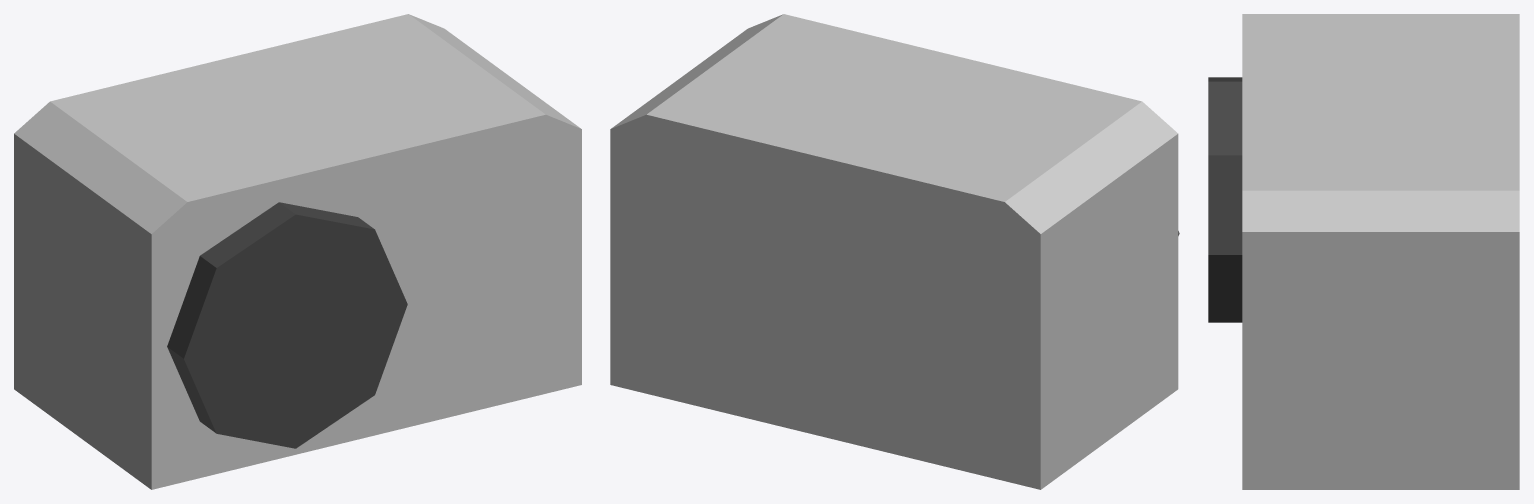
File: AC_Unit.glb
3 renders of one model, left to right at view 1: azimuth 30°, elevation 25°; view 2: azimuth 150°, elevation 25°; view 3: azimuth 270°, elevation 25°, orthographic.
Parts seen in each view (by area): view 1: AC_Unit; view 2: AC_Unit; view 3: AC_Unit.
Boxes of the visible parts, bbox=[...] form: AC_Unit: bbox=[14, 14, 581, 489]; AC_Unit: bbox=[610, 14, 1179, 489]; AC_Unit: bbox=[1208, 14, 1519, 489].
Size of the model in its own units: 0.2852 by 0.1767 by 0.1772.
Materials: 1 (1 with a texture image).
